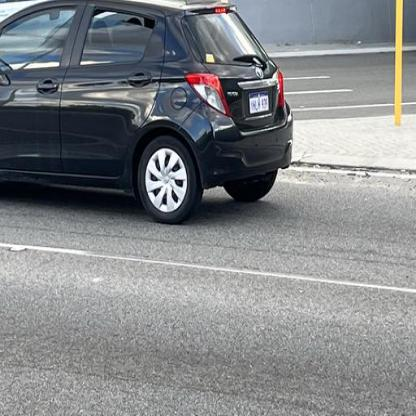Tire: (137, 135, 202, 224)
